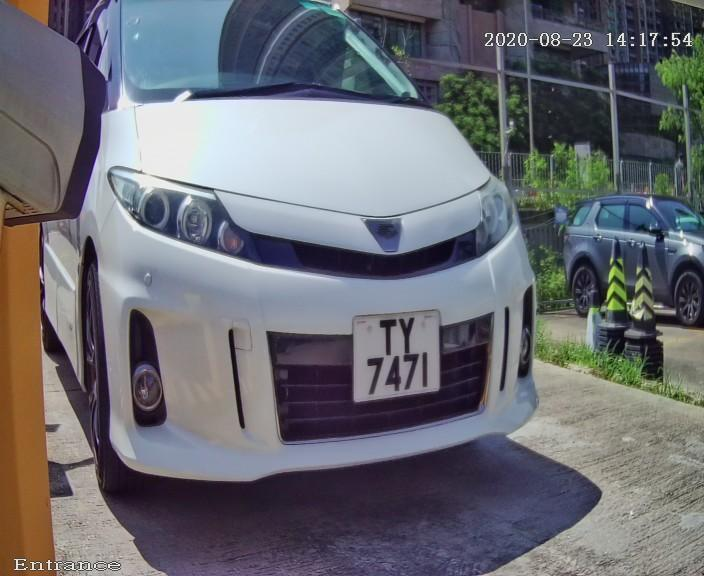License Plate: (340, 291, 450, 420)
